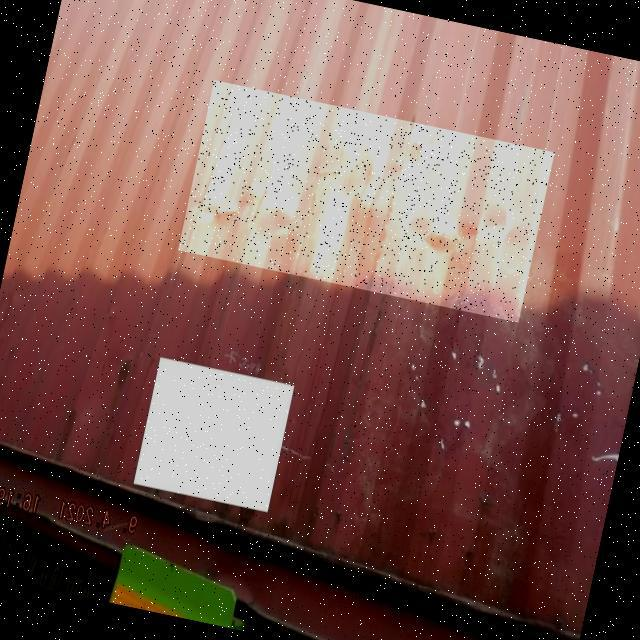Minor-Dent: (178, 80, 555, 323)
